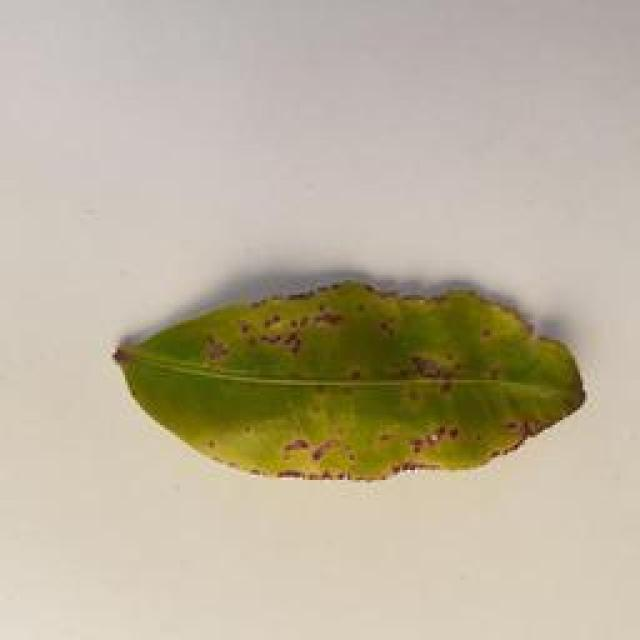Helopeltis: (110, 274, 610, 493)
